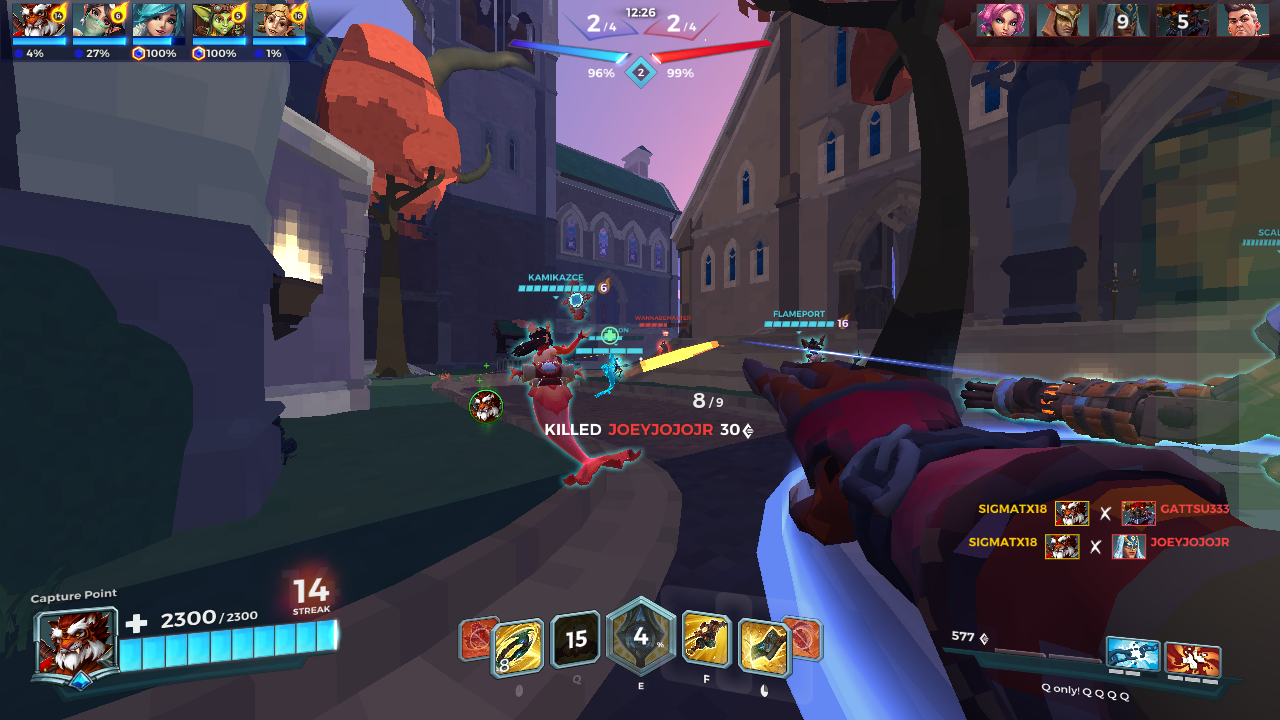model: (654, 335, 673, 358)
